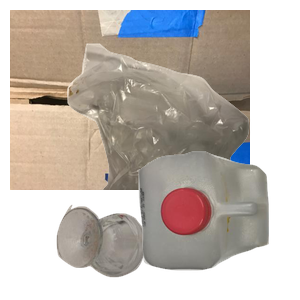cardboard: (10, 10, 250, 190)
glass: (54, 202, 193, 300)
plastic: (136, 149, 300, 300)
trash: (65, 41, 300, 221)
